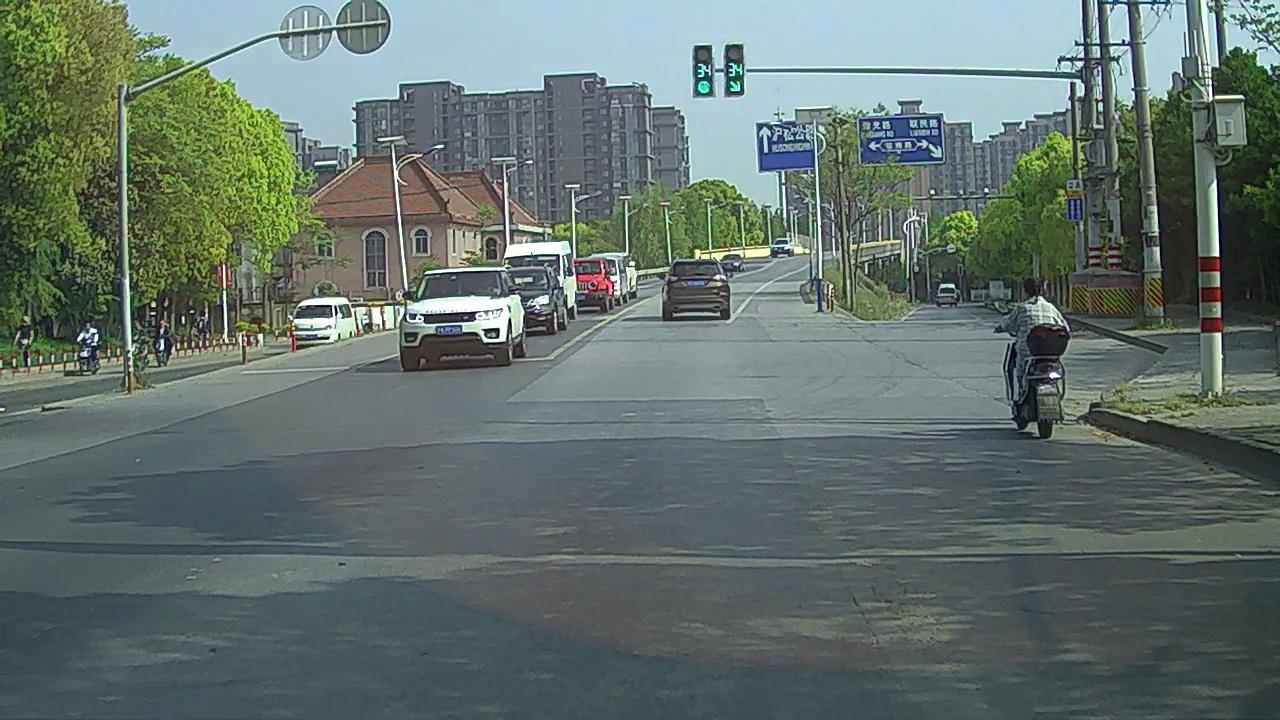traffic_light: (694, 43, 714, 97), (726, 42, 745, 95)
